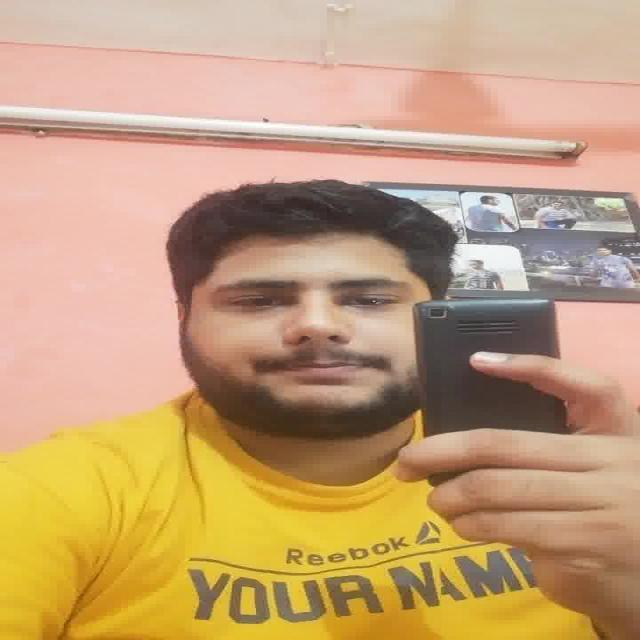Phone: (414, 296, 564, 429)
